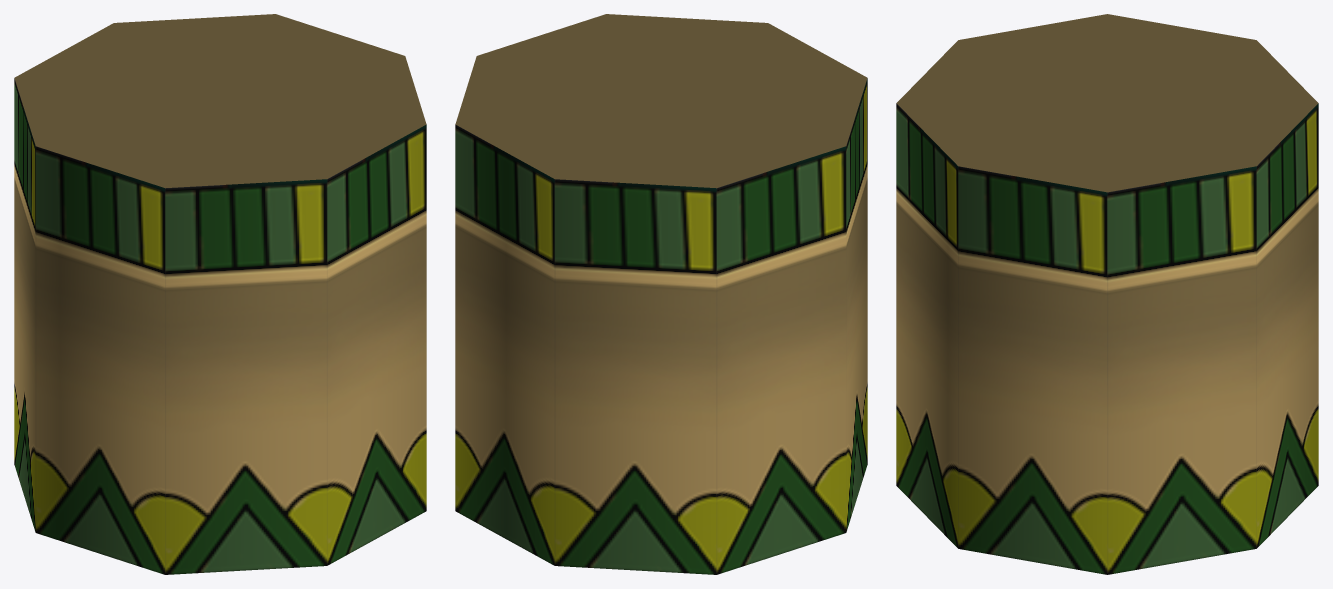
File: egypt_cylinder.gltf
3 views of the same model, side by side, from view 1: azimuth 30°, elevation 25°; view 2: azimuth 150°, elevation 25°; view 3: azimuth 270°, elevation 25° (orthographic).
Parts seen in each view (by area): view 1: egypt_cylinder_glb; view 2: egypt_cylinder_glb; view 3: egypt_cylinder_glb.
Boxes of the visible parts, <box> form: egypt_cylinder_glb: <box>14,14,426,574</box>; egypt_cylinder_glb: <box>455,14,867,574</box>; egypt_cylinder_glb: <box>896,14,1318,574</box>.
Size of what is drawn, in the model's own units: 1.03 by 1.03 by 1.03.
Materials: 1 (1 with a texture image).
